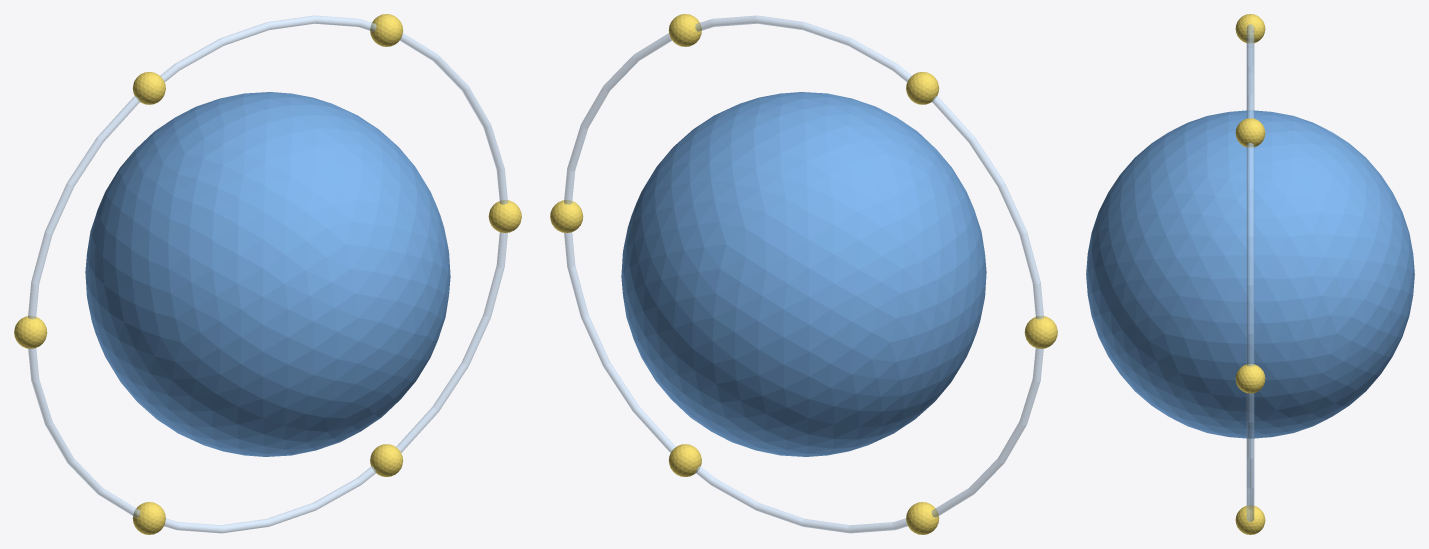
File: Al_plus3.glb
3 views of the same model, side by side, from view 1: azimuth 30°, elevation 25°; view 2: azimuth 150°, elevation 25°; view 3: azimuth 270°, elevation 25° (orthographic). The views are drawn at different scales.
Parts seen in each view (by area): view 1: ion_core, electron_shell, electron_2, electron_1, electron_3, electron_4, electron_0, electron_5; view 2: ion_core, electron_shell, electron_2, electron_1, electron_3, electron_4, electron_0, electron_5; view 3: ion_core, electron_shell, electron_0, electron_1, electron_2, electron_5.
Boxes of the visible parts, left/top/right/bottom form: ion_core: left=85, top=92, right=450, bottom=456; electron_shell: left=28, top=15, right=507, bottom=533; electron_2: left=132, top=72, right=165, bottom=104; electron_1: left=370, top=14, right=403, bottom=46; electron_3: left=14, top=316, right=47, bottom=348; electron_4: left=132, top=502, right=165, bottom=534; electron_0: left=488, top=200, right=521, bottom=232; electron_5: left=370, top=444, right=403, bottom=476; ion_core: left=621, top=92, right=986, bottom=456; electron_shell: left=564, top=15, right=1043, bottom=533; electron_2: left=906, top=72, right=939, bottom=104; electron_1: left=668, top=14, right=701, bottom=46; electron_3: left=1024, top=316, right=1057, bottom=348; electron_4: left=906, top=502, right=939, bottom=534; electron_0: left=550, top=200, right=583, bottom=232; electron_5: left=668, top=444, right=701, bottom=476; ion_core: left=1086, top=110, right=1414, bottom=438; electron_shell: left=1246, top=24, right=1254, bottom=521; electron_0: left=1235, top=364, right=1265, bottom=393; electron_1: left=1235, top=118, right=1265, bottom=147; electron_2: left=1235, top=14, right=1265, bottom=43; electron_5: left=1235, top=505, right=1265, bottom=534.
Bounding box in the file's own units: 3.5 × 3.35 × 2.2.
